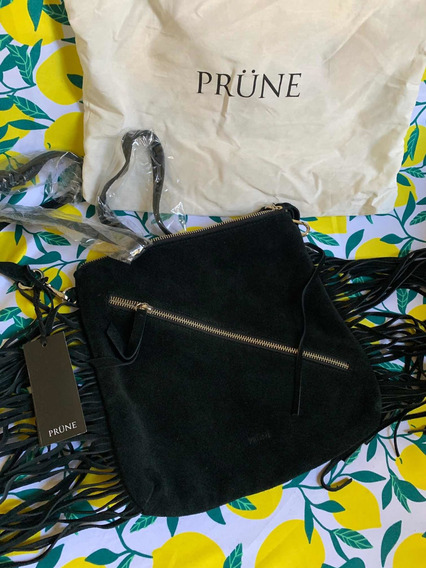cartera: (70, 203, 388, 519)
